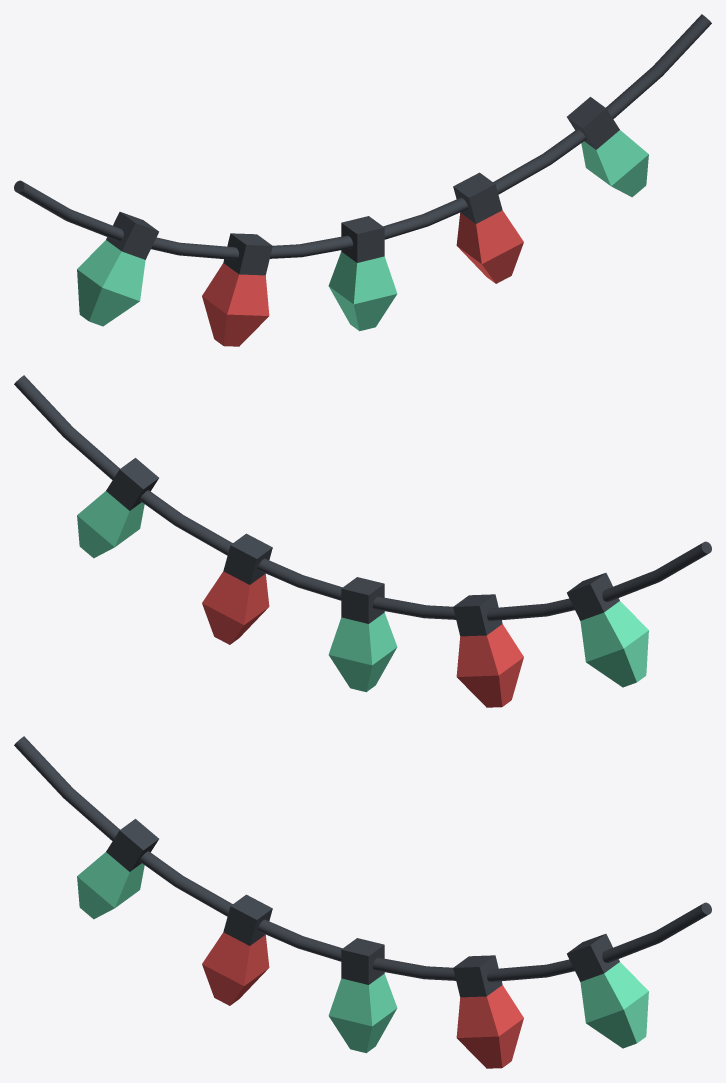
The model's file is lightsMulti.obj.
The picture shows the model from 3 angles, top to bottom: view 1: azimuth 30°, elevation 25°; view 2: azimuth 150°, elevation 25°; view 3: azimuth 330°, elevation 25°; orthographic projection.
Visible parts, largest first — view 1: lightsMulti; view 2: lightsMulti; view 3: lightsMulti.
Part boxes in pixels (box(x1,y1,x2,y2)): lightsMulti: box(14, 14, 711, 346); lightsMulti: box(14, 375, 711, 707); lightsMulti: box(14, 736, 711, 1068).
Bounding box in the file's own units: 1.01 × 0.3162 × 0.0636.
